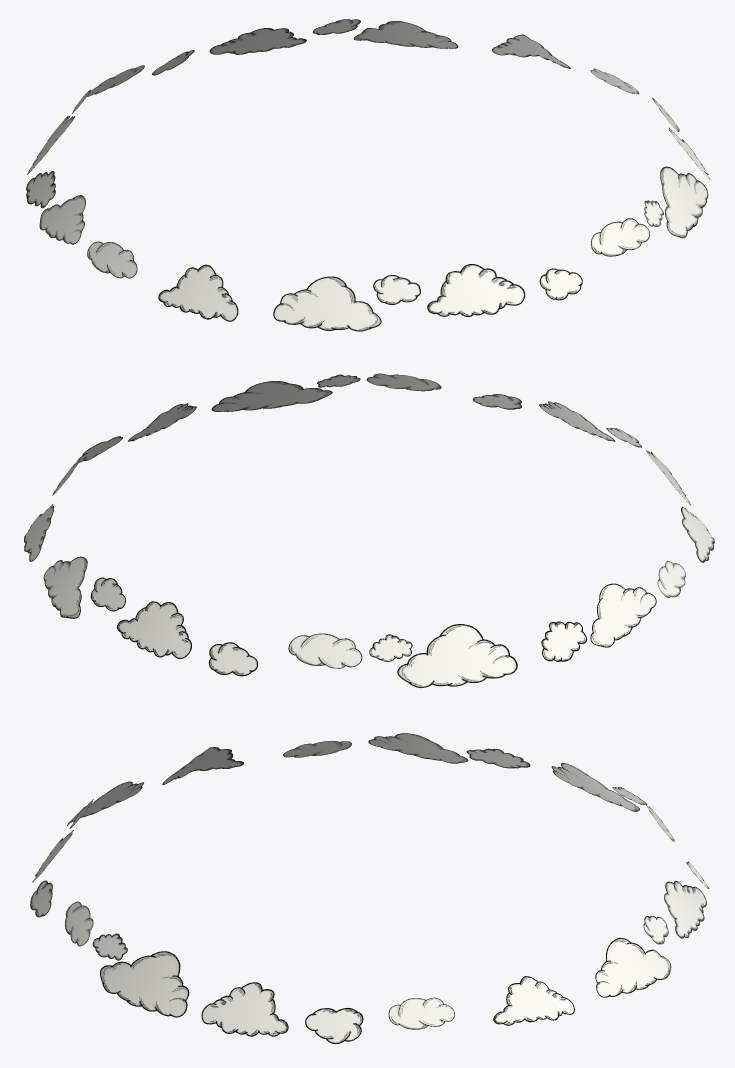
File: Clouds_Model.fbx
3 renders of one model, top to bottom at view 1: azimuth 30°, elevation 25°; view 2: azimuth 150°, elevation 25°; view 3: azimuth 270°, elevation 25°, orthographic.
Parts seen in each view (by area): view 1: Torus; view 2: Torus; view 3: Torus.
Part boxes in pixels (<box>): Torus: <box>26,19,709,331</box>; Torus: <box>24,373,714,688</box>; Torus: <box>30,733,709,1043</box>.
Bounding box in the file's own units: 378 × 28.27 × 378.
